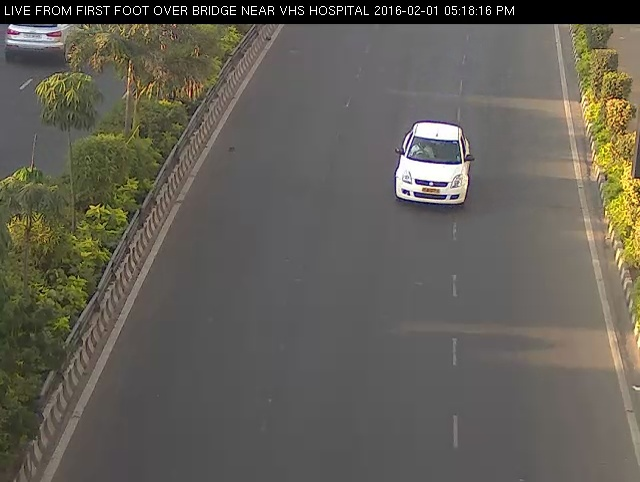Car: (387, 104, 480, 220)
